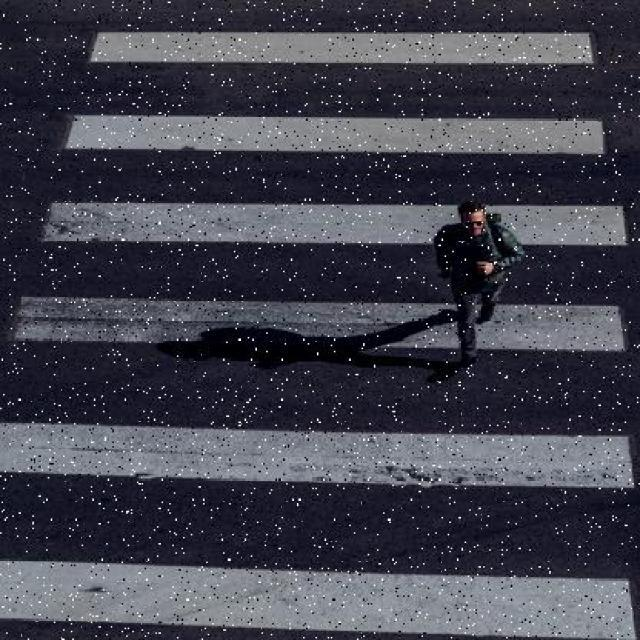crosswalk: (0, 3, 640, 640)
